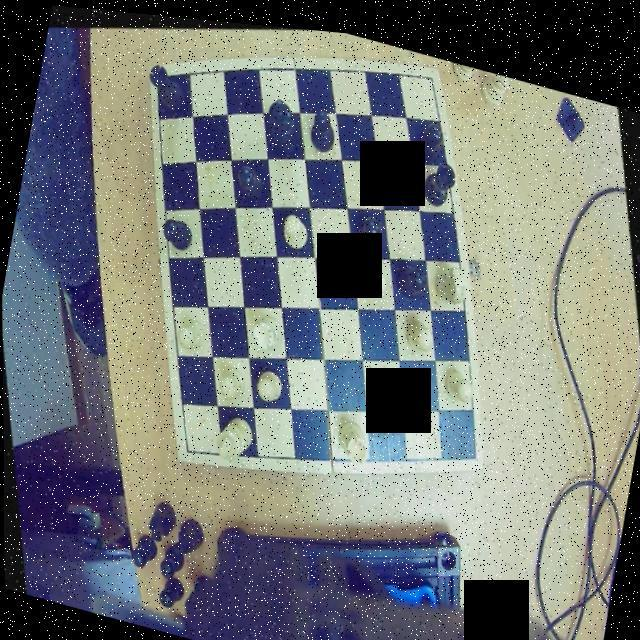chess-table-corners: (454, 428, 486, 462), (174, 431, 204, 464), (144, 59, 172, 94), (414, 54, 441, 85)
